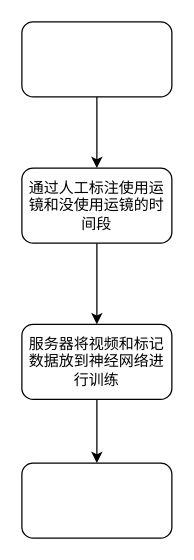
Image size: 194x560. Some labels were removed from this diagram. Here are the shapes that lost their labels. From the top down, the box of each, then its label:
(21, 21, 172, 97): 服务器采集多个主播跳舞的视频
(21, 462, 172, 538): 得到可以训练判别是有使用运镜的神经网络
